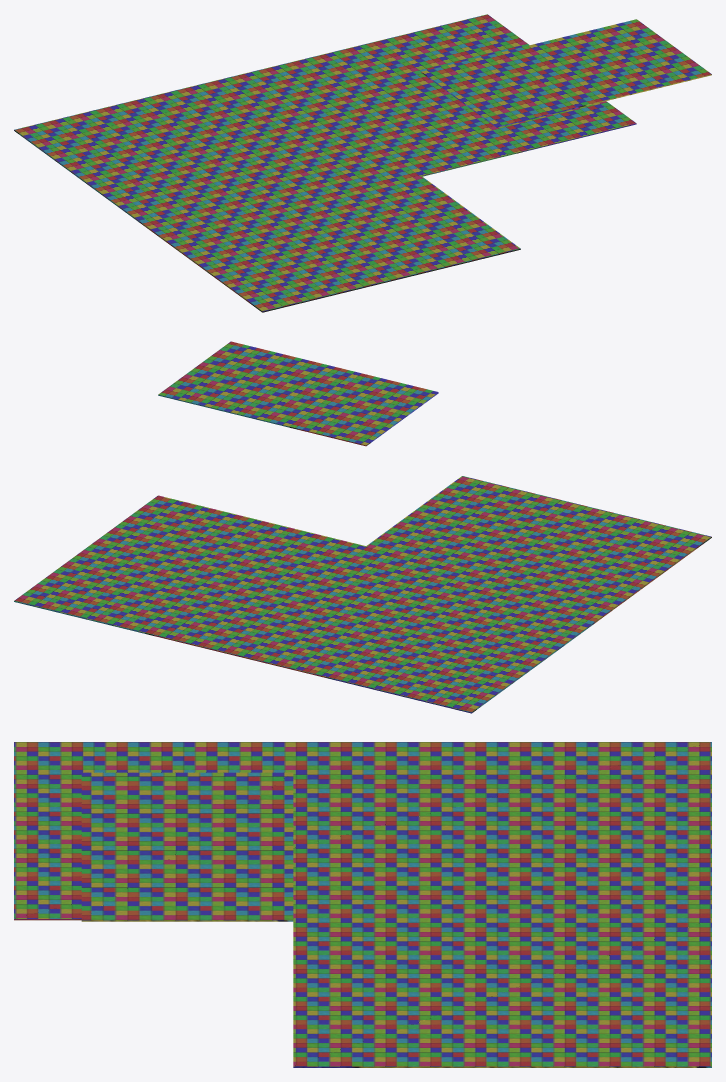
File: Kindergarten floor.fbx
3 renders of one model, top to bottom at view 1: azimuth 30°, elevation 25°; view 2: azimuth 150°, elevation 25°; view 3: azimuth 270°, elevation 25°, orthographic. The views are drawn at different scales.
Parts seen in each view (by area): view 1: floor kindergarden.001, floor kindergarden.002, floor kindergarden; view 2: floor kindergarden.001, floor kindergarden.002, floor kindergarden; view 3: floor kindergarden.001, floor kindergarden.002, floor kindergarden.
Boxes of the visible parts, x1,y1,x2,y2 form: floor kindergarden.001: (14, 67, 520, 312); floor kindergarden.002: (272, 14, 636, 176); floor kindergarden: (421, 19, 711, 127); floor kindergarden.001: (222, 476, 711, 713); floor kindergarden.002: (14, 495, 365, 652); floor kindergarden: (158, 341, 438, 446); floor kindergarden.001: (14, 742, 711, 920); floor kindergarden.002: (293, 919, 711, 1067); floor kindergarden: (81, 772, 293, 921).
Size of the model in its own units: 9116 by 1935 by 8287.
1 material, 1 textured.
